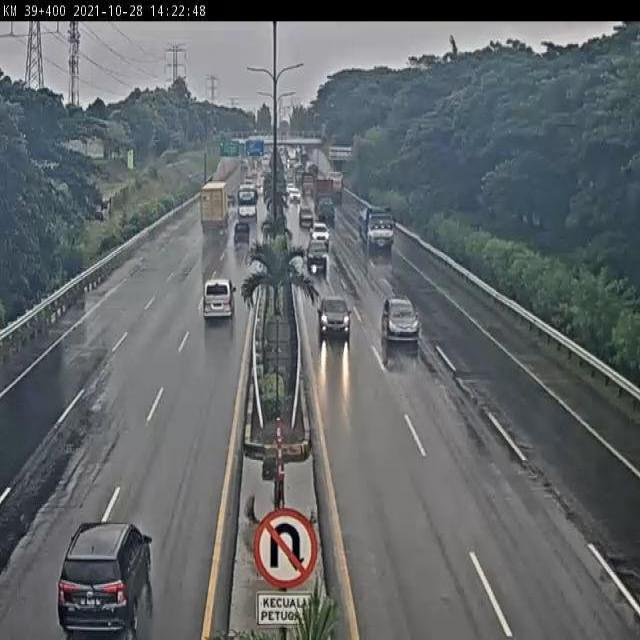truck-l-: (356, 203, 397, 253)
truck-xl-: (198, 181, 231, 235), (314, 179, 336, 225)
